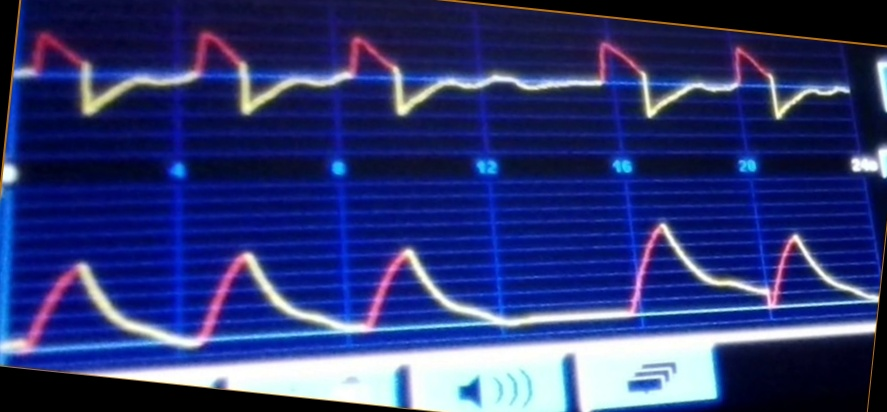Ineffective_effort Flow: (18, 26, 848, 119)
Ineffective_effort Volume: (9, 216, 874, 351)
